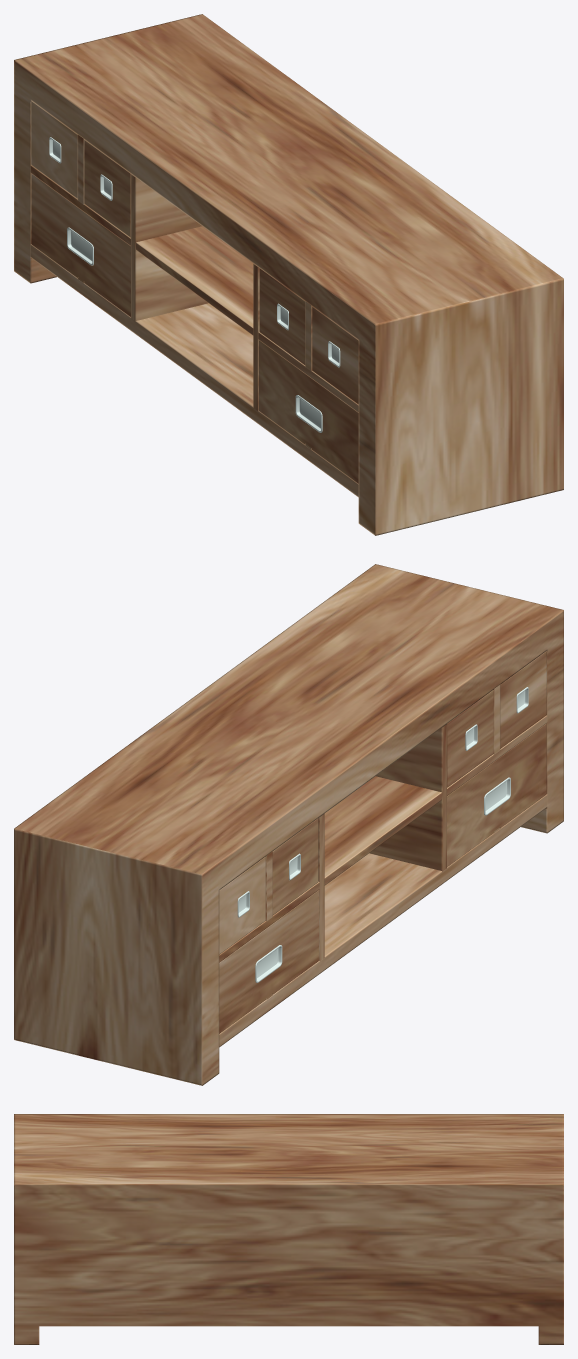
File: drawer_05.obj
The picture shows the model from 3 angles, top to bottom: view 1: azimuth 30°, elevation 25°; view 2: azimuth 150°, elevation 25°; view 3: azimuth 270°, elevation 25°; orthographic projection. The views are drawn at different scales.
Parts seen in each view (by area): view 1: drawer_05; view 2: drawer_05; view 3: drawer_05.
Part boxes in pixels (x1,y1,x2,y2): drawer_05: [14, 14, 563, 535]; drawer_05: [14, 564, 563, 1085]; drawer_05: [14, 1114, 563, 1344].
Bounding box in the file's own units: 2.06 × 2.2 × 6.81.
